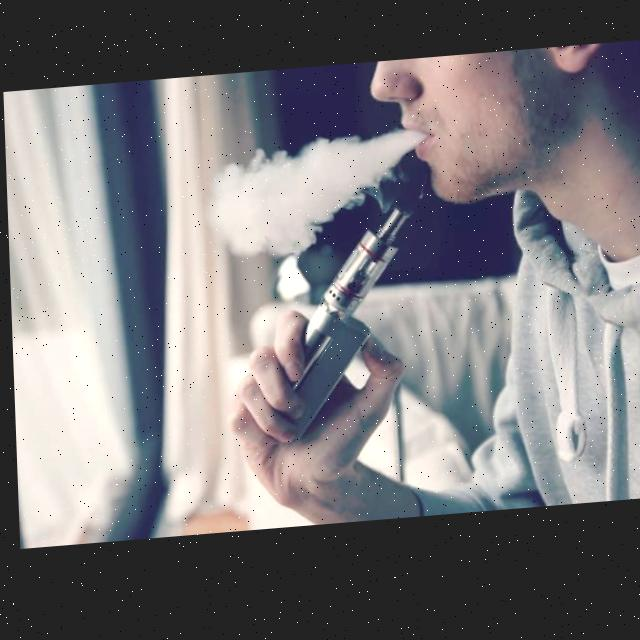vape: (266, 207, 420, 446)
